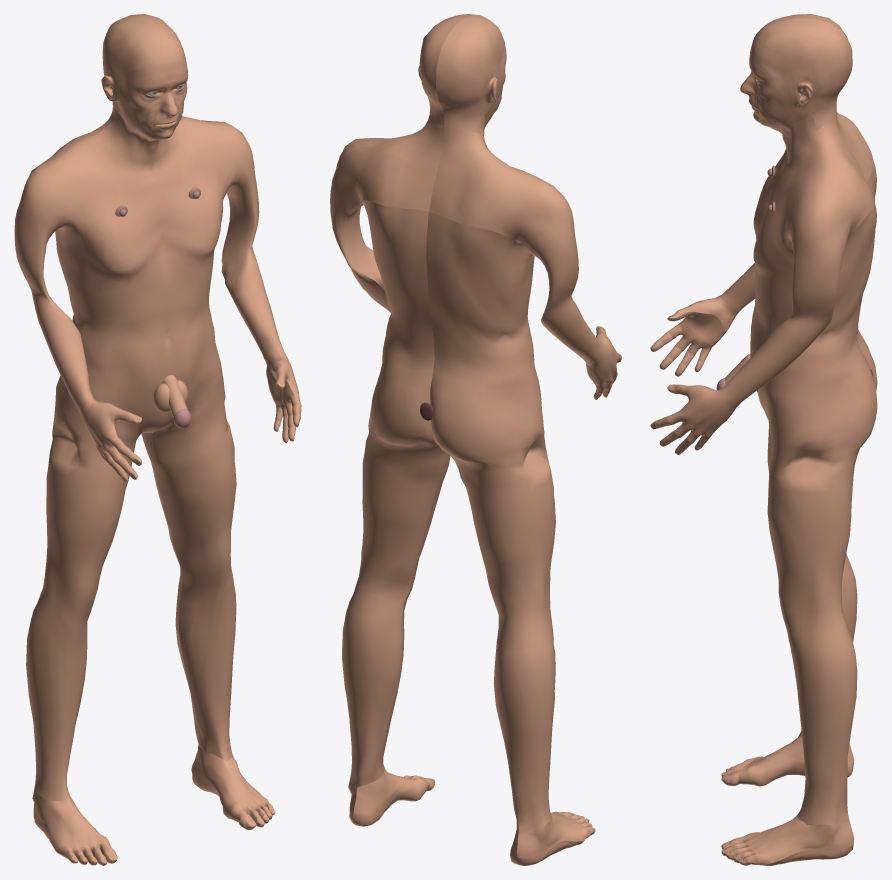
The model's file is body-senior-maennlich-real-v3.glb.
3 views of the same model, side by side, from view 1: azimuth 30°, elevation 25°; view 2: azimuth 150°, elevation 25°; view 3: azimuth 270°, elevation 25° (orthographic).
Parts seen in each view (by area): view 1: real-human-body; view 2: real-human-body; view 3: real-human-body.
Part boxes in pixels (<box>): real-human-body: <box>14,14,301,865</box>; real-human-body: <box>330,14,621,865</box>; real-human-body: <box>650,14,877,865</box>.
Bounding box in the file's own units: 0.5094 × 1.65 × 0.4242.
8 materials, 1 textured.
